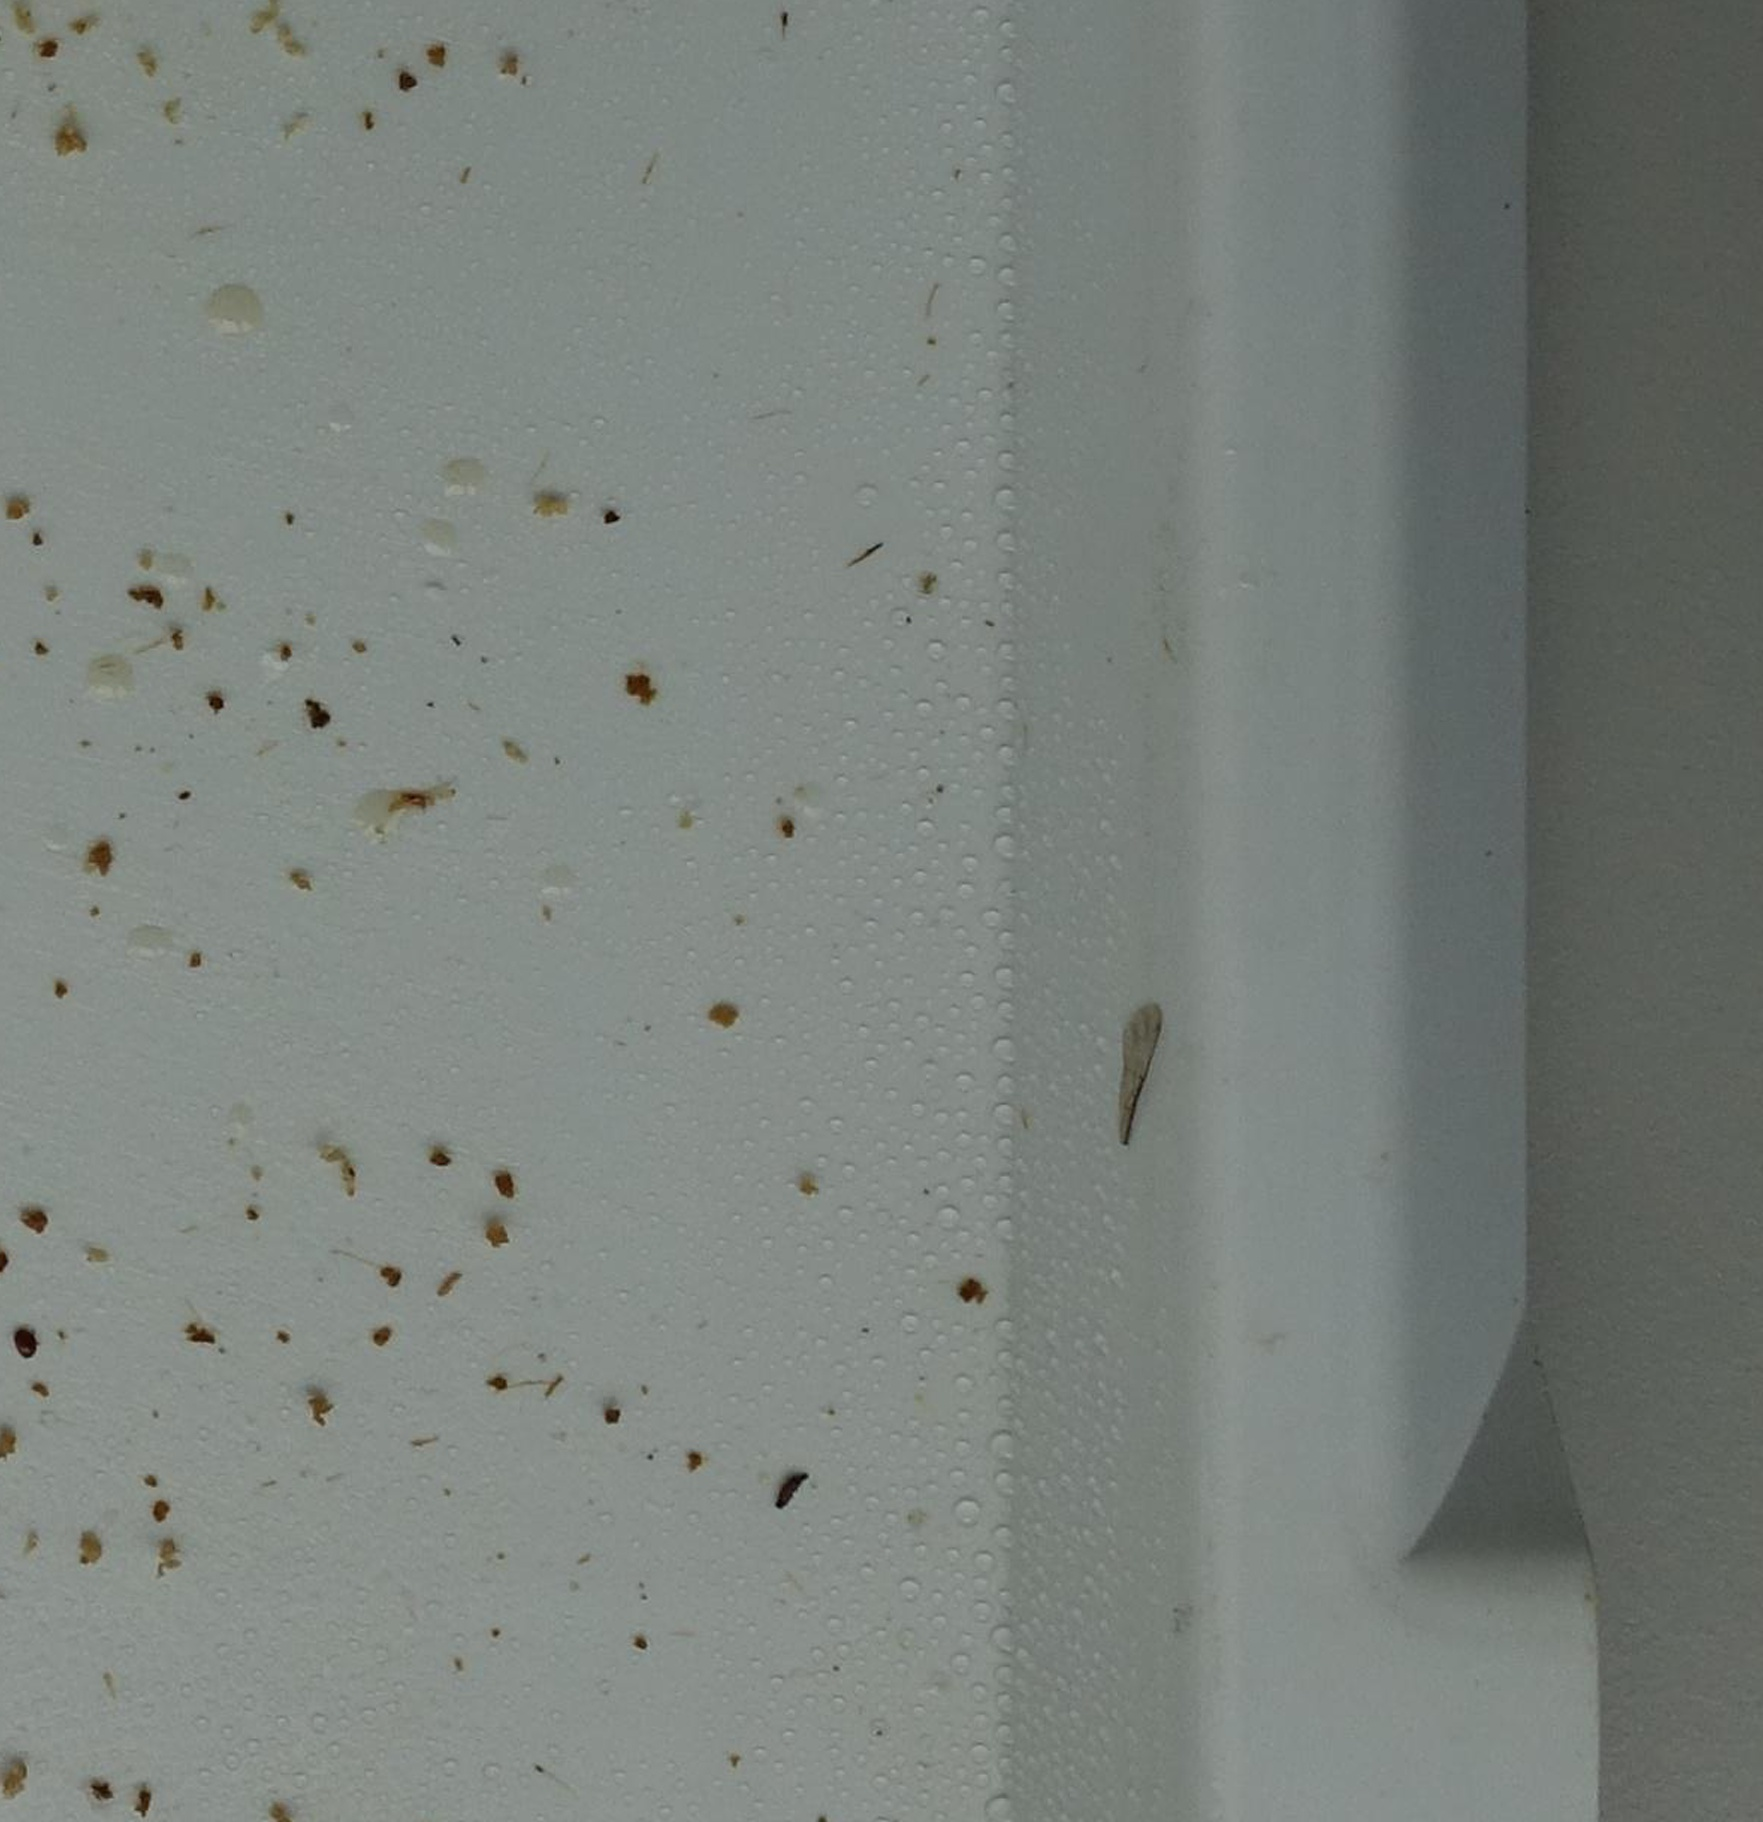Varroa: (13, 1331, 44, 1362)
